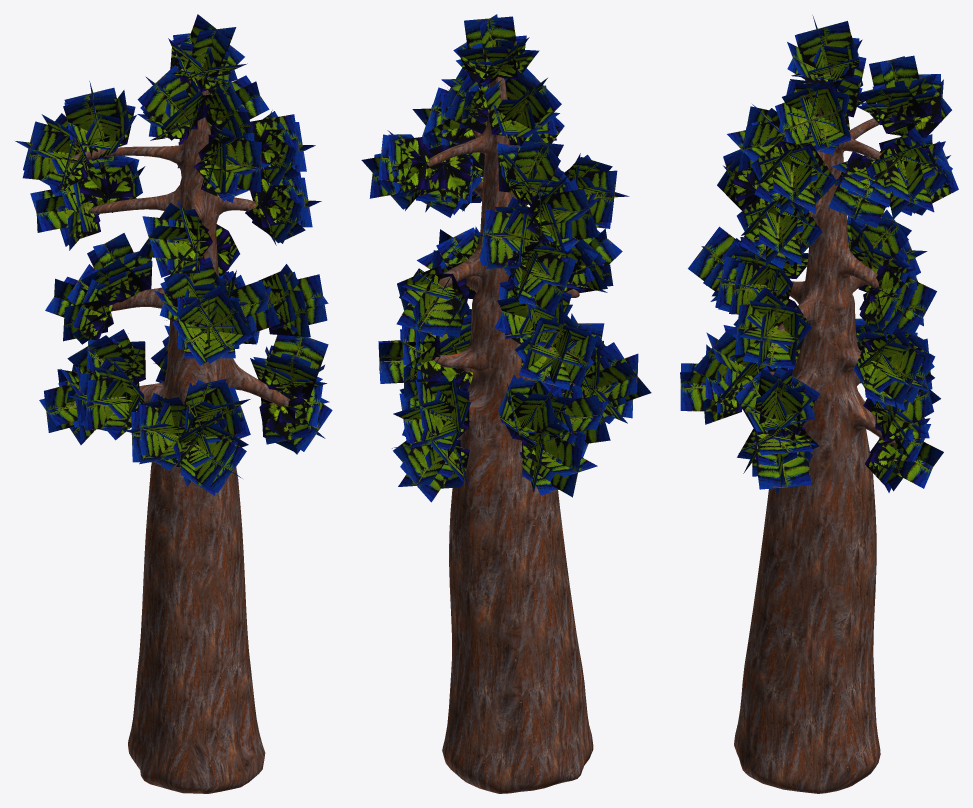
The picture shows the model from 3 angles, left to right: view 1: azimuth 30°, elevation 25°; view 2: azimuth 150°, elevation 25°; view 3: azimuth 270°, elevation 25°; orthographic projection. The views are drawn at different scales.
Visible parts, largest first — view 1: Redwood Leaves.025_0, Sequioa Redwood_1; view 2: Redwood Leaves.025_0, Sequioa Redwood_1; view 3: Redwood Leaves.025_0, Sequioa Redwood_1.
Boxes of the visible parts, x1,y1,x2,y2 form: Redwood Leaves.025_0: [15, 14, 332, 495]; Sequioa Redwood_1: [71, 79, 289, 793]; Redwood Leaves.025_0: [361, 14, 651, 502]; Sequioa Redwood_1: [428, 76, 593, 793]; Redwood Leaves.025_0: [680, 15, 958, 495]; Sequioa Redwood_1: [734, 74, 895, 793].
Size of the model in its own units: 4.31 by 12.53 by 4.17.
3 materials, 3 textured.
